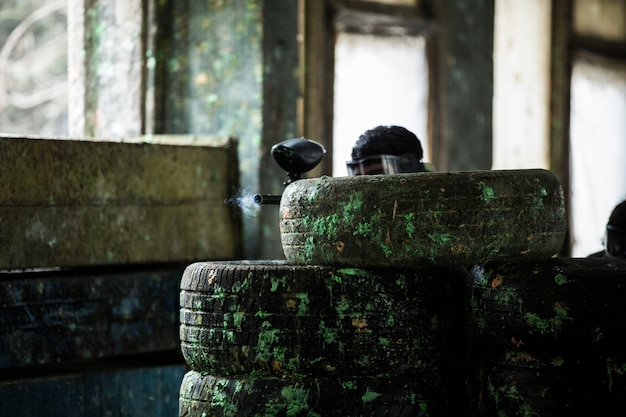gun: (253, 138, 330, 207)
